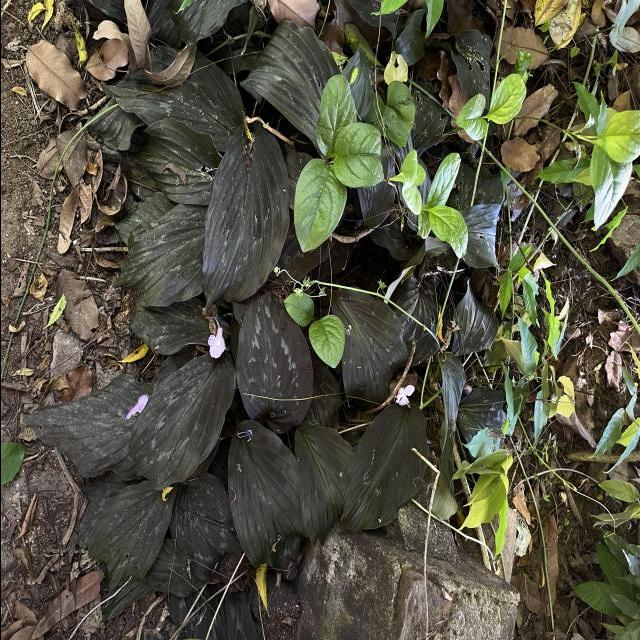Kaempferia galanga linn: (125, 350, 238, 494), (225, 418, 312, 572), (336, 401, 430, 536), (232, 286, 314, 436)
